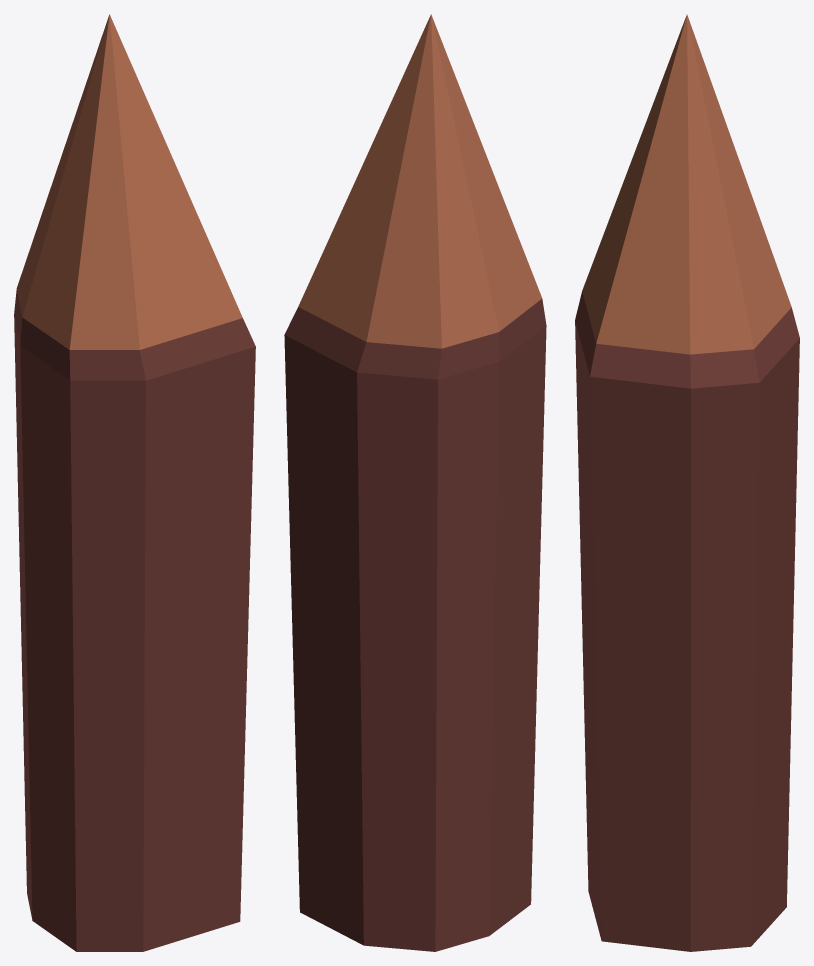
The model's file is Wooden Pole Sharp 07.fbx.
3 views of the same model, side by side, from view 1: azimuth 30°, elevation 25°; view 2: azimuth 150°, elevation 25°; view 3: azimuth 270°, elevation 25° (orthographic).
Parts seen in each view (by area): view 1: Wooden Pole Sharp 07; view 2: Wooden Pole Sharp 07; view 3: Wooden Pole Sharp 07.
Boxes of the visible parts, box(x1,y1,x2,y2) form: Wooden Pole Sharp 07: box(14, 14, 255, 951); Wooden Pole Sharp 07: box(284, 14, 546, 951); Wooden Pole Sharp 07: box(575, 14, 799, 951).
Bounding box in the file's own units: 30.84 × 132 × 30.34.
